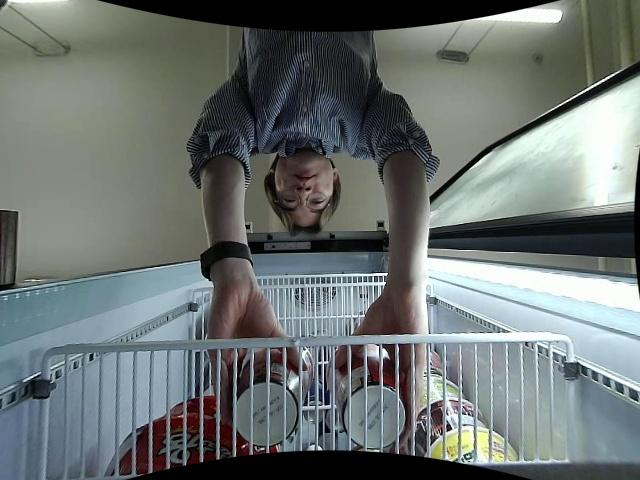00_hand: (332, 288, 430, 459), (207, 277, 307, 430)
02_shinRamen_S: (332, 345, 410, 448), (225, 344, 300, 448)
